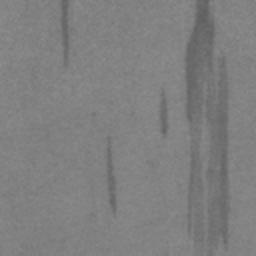Red iron sheet: (186, 0, 229, 256), (106, 136, 117, 214), (62, 0, 69, 67), (160, 90, 168, 136)
